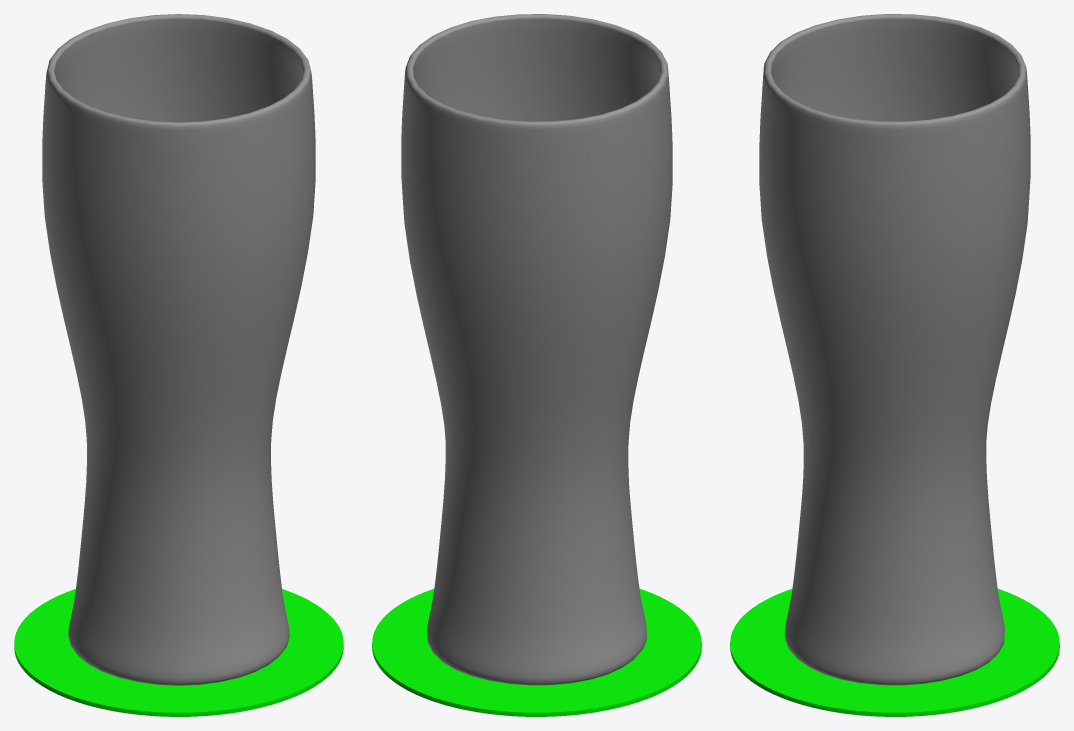
The model's file is bottle3.FBX.
3 views of the same model, side by side, from view 1: azimuth 30°, elevation 25°; view 2: azimuth 150°, elevation 25°; view 3: azimuth 270°, elevation 25° (orthographic).
Parts seen in each view (by area): view 1: test2_pCube1, Object001, beer_beer_5_beer_7; view 2: test2_pCube1, Object001, beer_beer_5_beer_7; view 3: test2_pCube1, Object001, beer_beer_5_beer_7.
Boxes of the visible parts, x1=… form: test2_pCube1: x1=42, y1=14, x2=315, y2=685; Object001: x1=54, y1=18, x2=303, y2=122; beer_beer_5_beer_7: x1=14, y1=589, x2=343, y2=716; test2_pCube1: x1=401, y1=14, x2=672, y2=685; Object001: x1=413, y1=18, x2=660, y2=121; beer_beer_5_beer_7: x1=372, y1=589, x2=701, y2=716; test2_pCube1: x1=759, y1=14, x2=1030, y2=685; Object001: x1=771, y1=18, x2=1018, y2=121; beer_beer_5_beer_7: x1=730, y1=589, x2=1059, y2=716.
Size of what is drawn, in the model's own units: 18.05 by 34.99 by 18.05.
